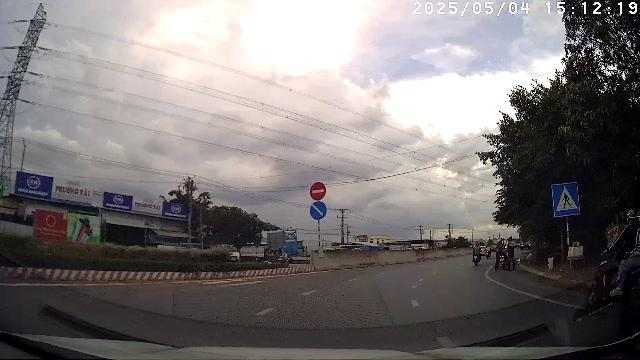102-cam-di-nguoc-chieu: (310, 181, 327, 200)
302a-huong-phai-di-vong-chuong-ngai-vat-1: (309, 201, 328, 220)
423a-duong-nguoi-di-bo-sang-ngang-1: (552, 183, 580, 216)
